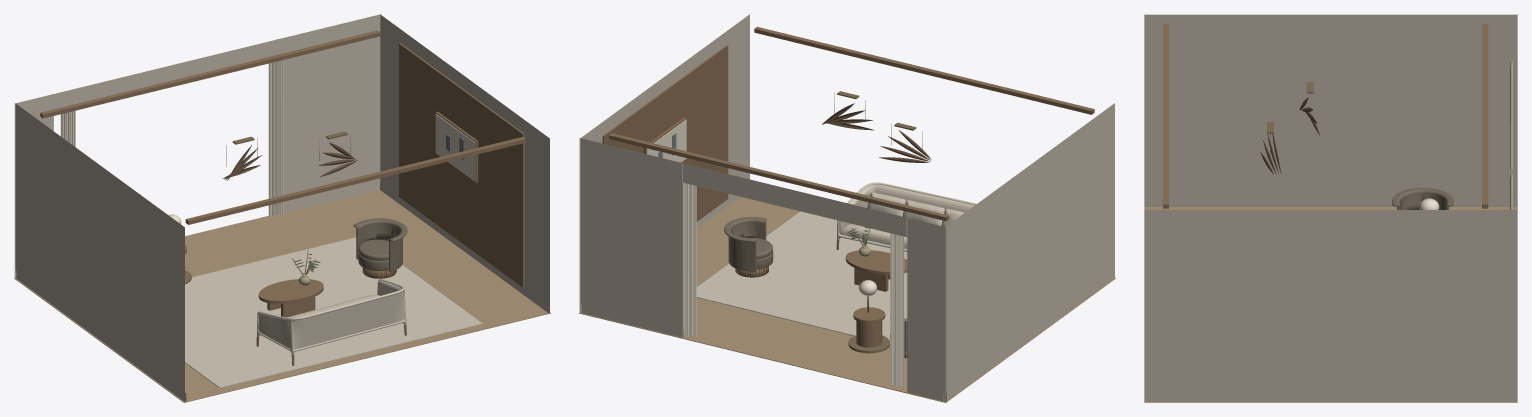
Rendered from great-3.glb.
3 views of the same model, side by side, from view 1: azimuth 30°, elevation 25°; view 2: azimuth 150°, elevation 25°; view 3: azimuth 270°, elevation 25° (orthographic). The views are drawn at different scales.
Visible parts, largest first — view 1: DESIGN | great removable wall finish, DESIGN | Great room primary ground, DESIGN | great floor finish, DESIGN | Retreat timber wall plane, DESIGN | Great room sofa facing conversation, DESIGN | Required Bellustar swivel chair one, DESIGN | Retreat concealed light edge.001, DESIGN | Retreat concealed light edge, DESIGN | Great room soft window edge.001, DESIGN | Textile artwork.001, DESIGN | Great room conversation table top, DESIGN | Required Flou pendant 2 (+2 smaller); view 2: DESIGN | great removable wall finish, DESIGN | great floor finish, DESIGN | Great room primary ground, DESIGN | Retreat timber wall plane, DESIGN | Great room sofa facing conversation, DESIGN | Retreat concealed light edge, DESIGN | Retreat concealed light edge.001, DESIGN | Required Bellustar swivel chair one, DESIGN | Great room soft window edge, DESIGN | Great room soft window edge.001, DESIGN | Great room conversation table top, DESIGN | Textile artwork.001 (+4 smaller); view 3: DESIGN | great removable wall finish, DESIGN | great floor finish, DESIGN | Retreat concealed light edge.001, DESIGN | Retreat concealed light edge, DESIGN | Required Bellustar swivel chair two, DESIGN | Great room soft window edge, DESIGN | Required Flou pendant 2.
Part boxes in pixels (<box>): DESIGN | great removable wall finish: <box>14,14,549,401</box>; DESIGN | Great room primary ground: <box>185,237,482,388</box>; DESIGN | great floor finish: <box>14,190,550,402</box>; DESIGN | Retreat timber wall plane: <box>399,43,524,287</box>; DESIGN | Great room sofa facing conversation: <box>256,279,406,365</box>; DESIGN | Required Bellustar swivel chair one: <box>353,218,407,278</box>; DESIGN | Retreat concealed light edge.001: <box>40,30,380,118</box>; DESIGN | Retreat concealed light edge: <box>185,137,525,224</box>; DESIGN | Great room soft window edge.001: <box>268,60,283,216</box>; DESIGN | Textile artwork.001: <box>435,114,475,181</box>; DESIGN | Great room conversation table top: <box>258,279,323,303</box>; DESIGN | Required Flou pendant 2: <box>318,142,358,176</box>; DESIGN | great removable wall finish: <box>579,14,1114,401</box>; DESIGN | great floor finish: <box>579,196,1115,402</box>; DESIGN | Great room primary ground: <box>696,211,907,344</box>; DESIGN | Retreat timber wall plane: <box>602,45,728,221</box>; DESIGN | Great room sofa facing conversation: <box>836,182,976,251</box>; DESIGN | Retreat concealed light edge: <box>754,26,1094,114</box>; DESIGN | Retreat concealed light edge.001: <box>609,133,949,221</box>; DESIGN | Required Bellustar swivel chair one: <box>724,217,773,277</box>; DESIGN | Great room soft window edge: <box>890,233,904,387</box>; DESIGN | Great room soft window edge.001: <box>683,182,696,337</box>; DESIGN | Great room conversation table top: <box>845,250,907,274</box>; DESIGN | Textile artwork.001: <box>646,119,686,162</box>; DESIGN | great removable wall finish: <box>1144,14,1517,401</box>; DESIGN | great floor finish: <box>1144,207,1517,402</box>; DESIGN | Retreat concealed light edge.001: <box>1482,24,1488,208</box>; DESIGN | Retreat concealed light edge: <box>1163,24,1168,208</box>; DESIGN | Required Bellustar swivel chair two: <box>1392,187,1453,209</box>; DESIGN | Great room soft window edge: <box>1509,59,1513,170</box>; DESIGN | Required Flou pendant 2: <box>1260,133,1281,174</box>.
Bounding box in the file's own units: 6 × 2.74 × 4.82.
